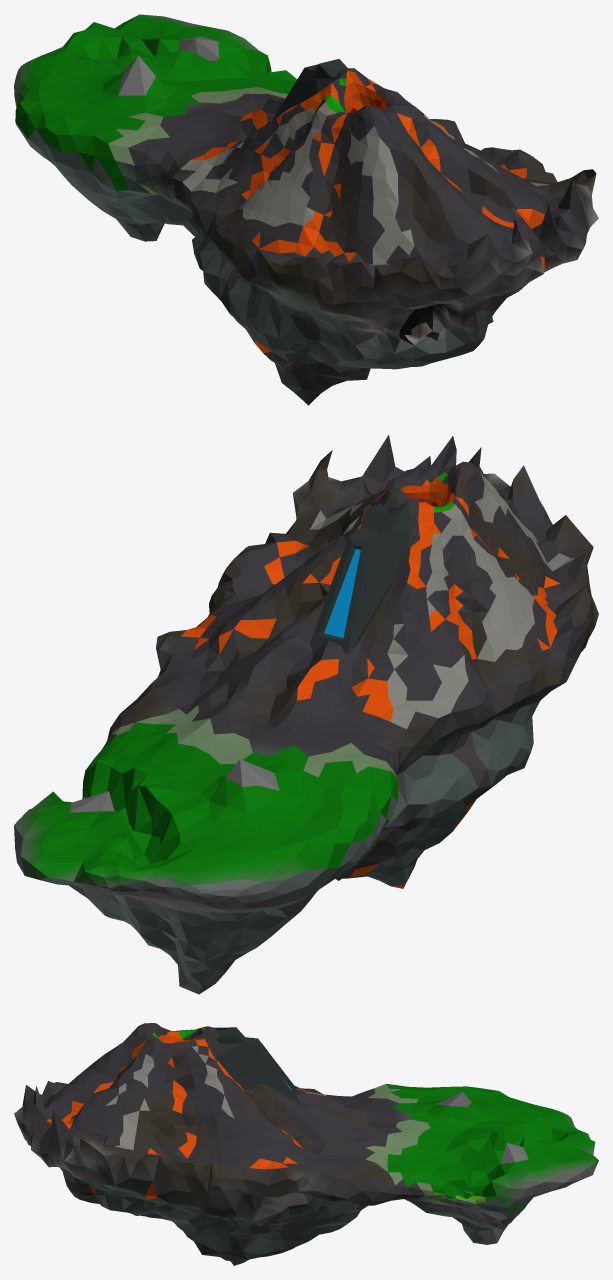
Rendered from Mount.fbx.
3 renders of one model, top to bottom at view 1: azimuth 30°, elevation 25°; view 2: azimuth 150°, elevation 25°; view 3: azimuth 270°, elevation 25°, orthographic. The views are drawn at different scales.
Parts seen in each view (by area): view 1: Cave, Building; view 2: Cave, Building; view 3: Cave, Building.
Part boxes in pixels (x1,y1,x2,y2): Cave: (14,14,598,405); Building: (272,59,347,120); Cave: (14,435,598,994); Building: (309,500,410,654); Cave: (14,1023,598,1265); Building: (214,1027,300,1103).
Bounding box in the file's own units: 34182 × 36956 × 79344.
